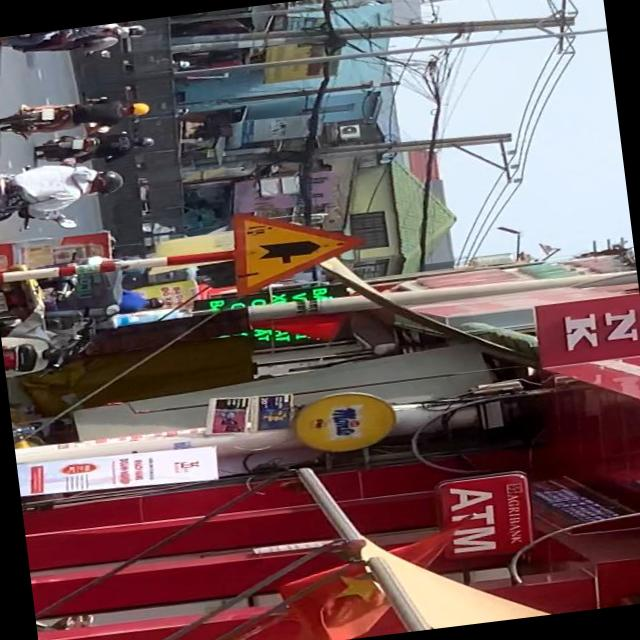W-207b: (224, 198, 366, 293)
